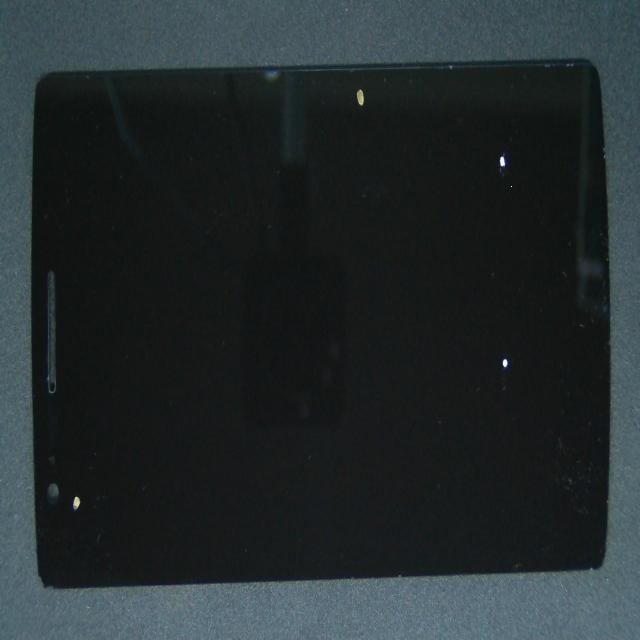stain: (213, 203, 640, 567), (272, 58, 640, 210), (32, 274, 98, 640)
